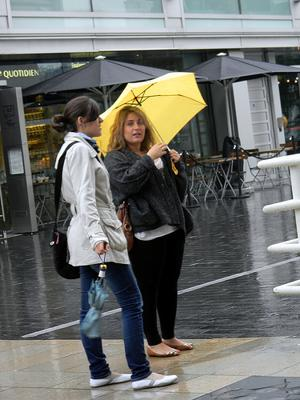person: (105, 104, 194, 357)
